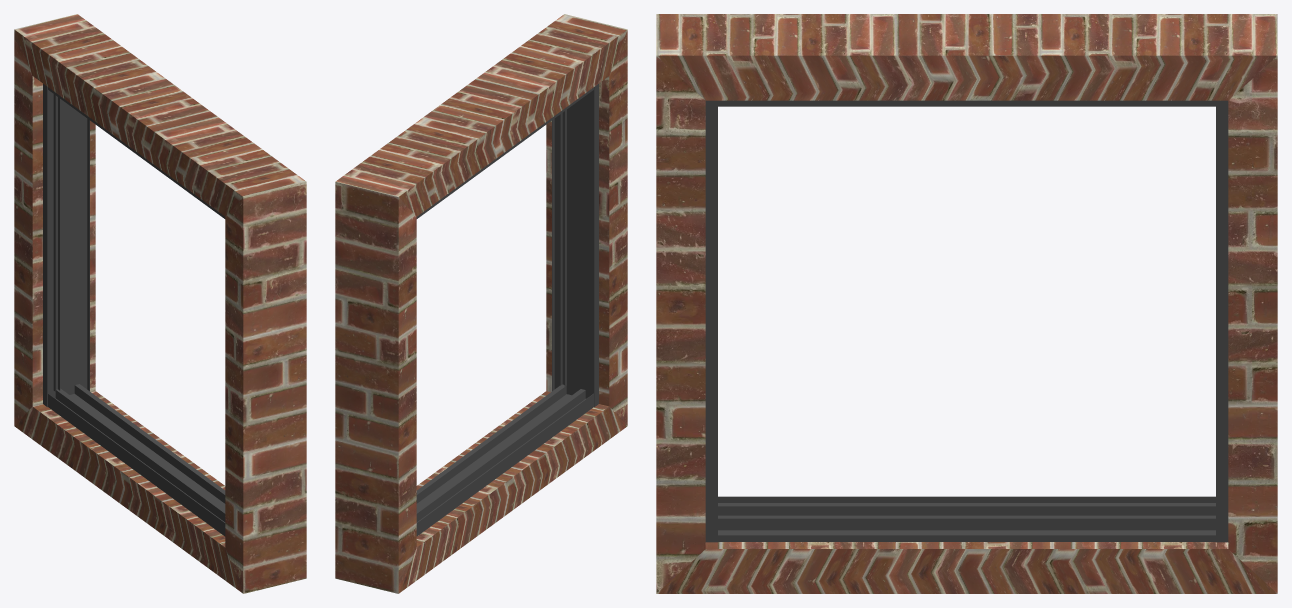
Rendered from Double-sliding-frames-transformed.glb.
The picture shows the model from 3 angles, left to right: view 1: azimuth 30°, elevation 25°; view 2: azimuth 150°, elevation 25°; view 3: azimuth 270°, elevation 25°; orthographic projection. The views are drawn at different scales.
Parts seen in each view (by area): view 1: Window_frame.001, Window_rail.001; view 2: Window_frame.001, Window_rail.001; view 3: Window_frame.001, Window_rail.001.
Part boxes in pixels (box(x1,y1,x2,y2)): Window_frame.001: box(14, 14, 306, 593); Window_rail.001: box(43, 84, 225, 536); Window_frame.001: box(335, 14, 627, 593); Window_rail.001: box(416, 84, 598, 536); Window_frame.001: box(656, 14, 1277, 593); Window_rail.001: box(705, 100, 1228, 542).
Bounding box in the file's own units: 0.4324 × 2.59 × 2.72.
2 materials, 1 textured.
